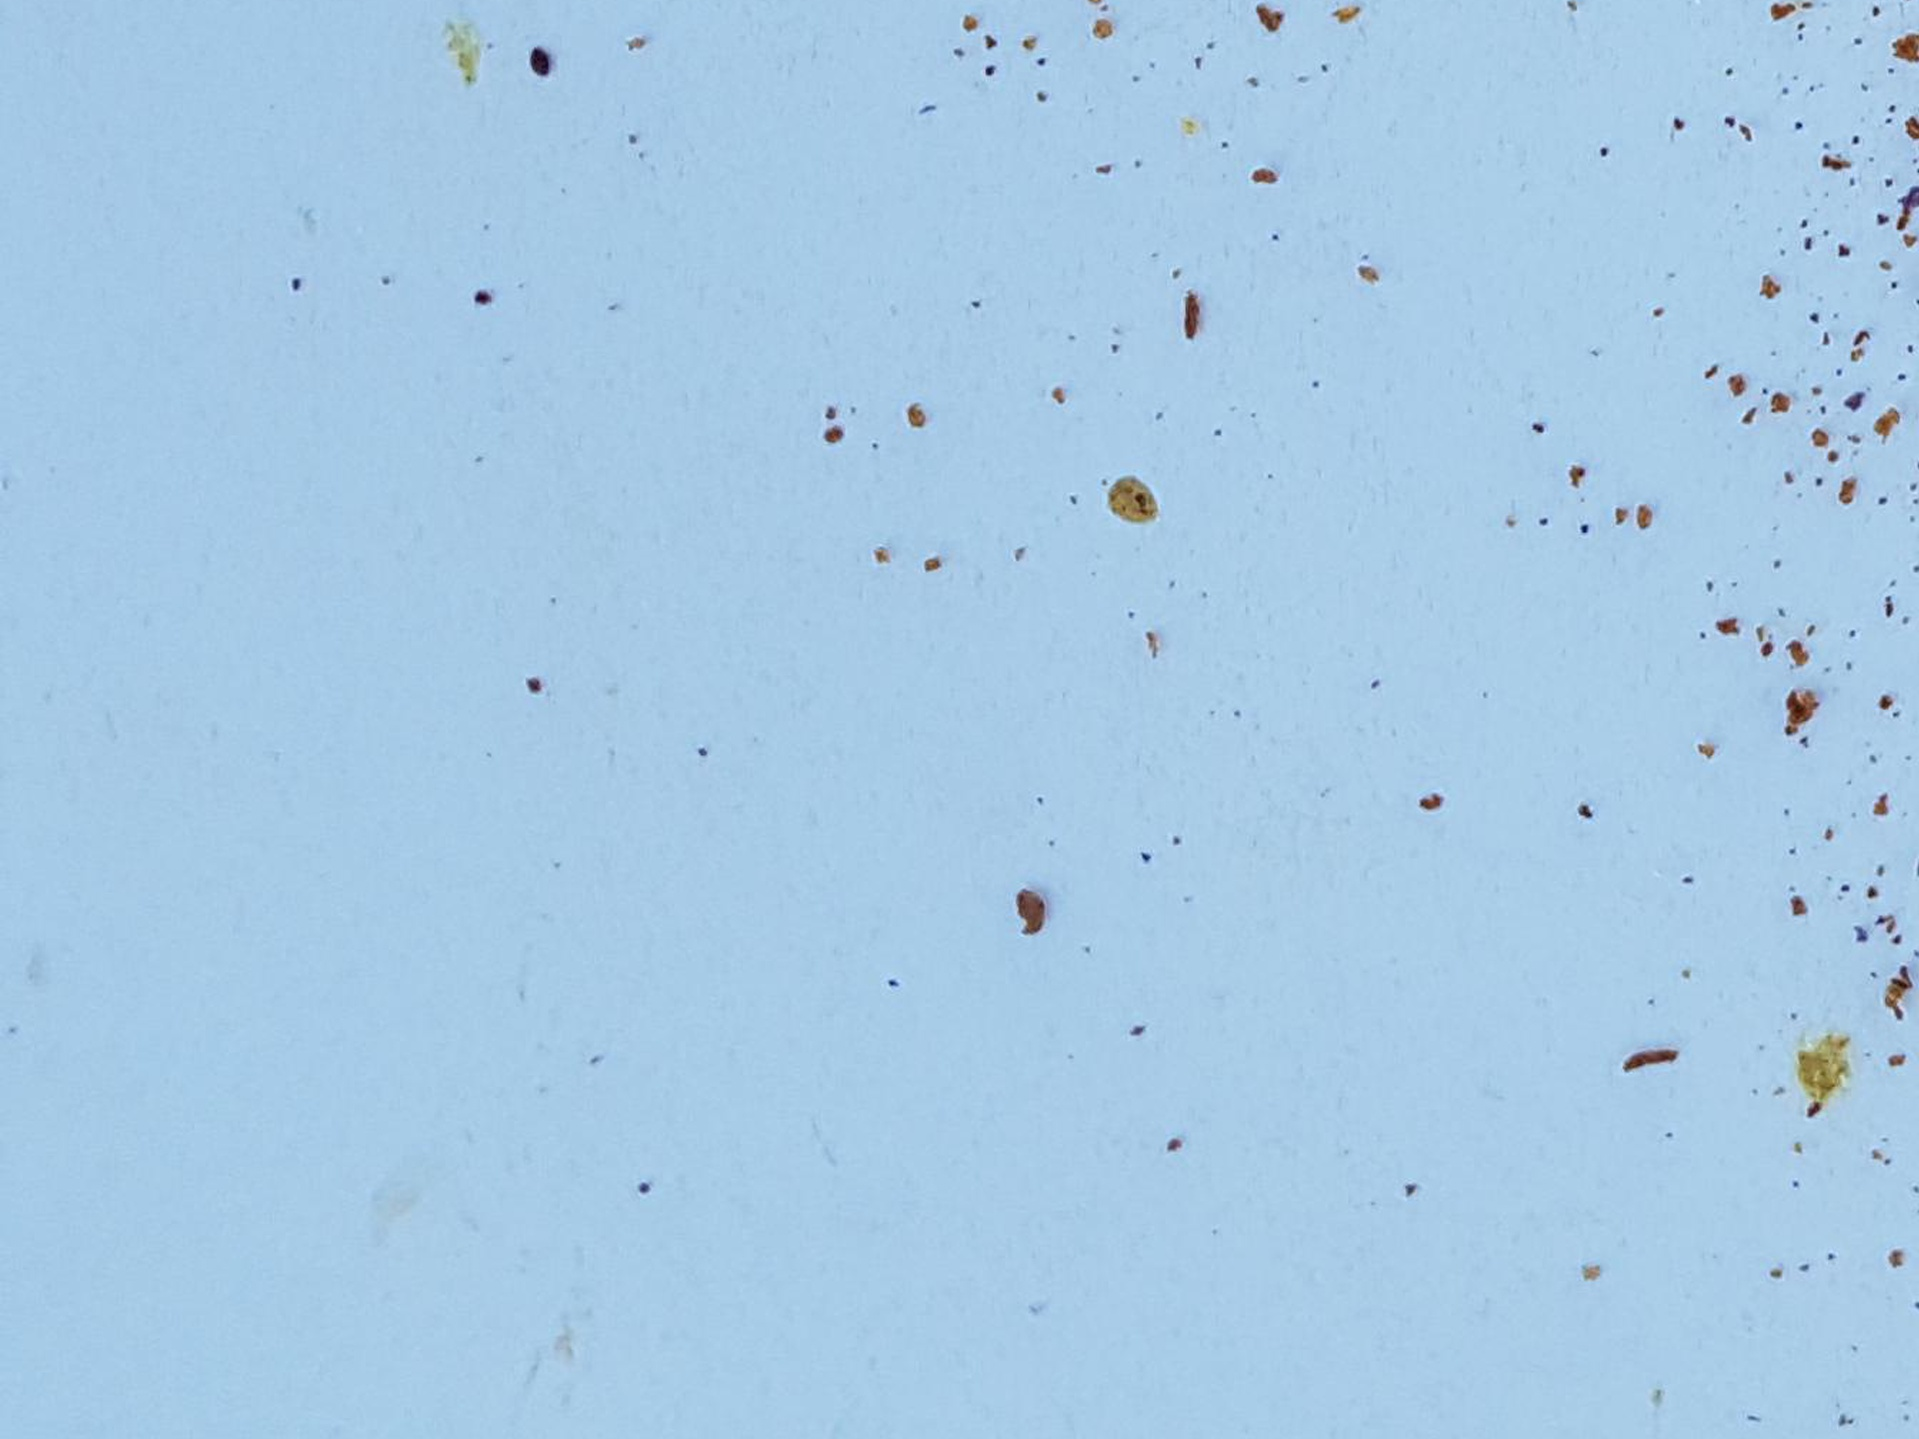Varroa: (527, 50, 552, 74)
